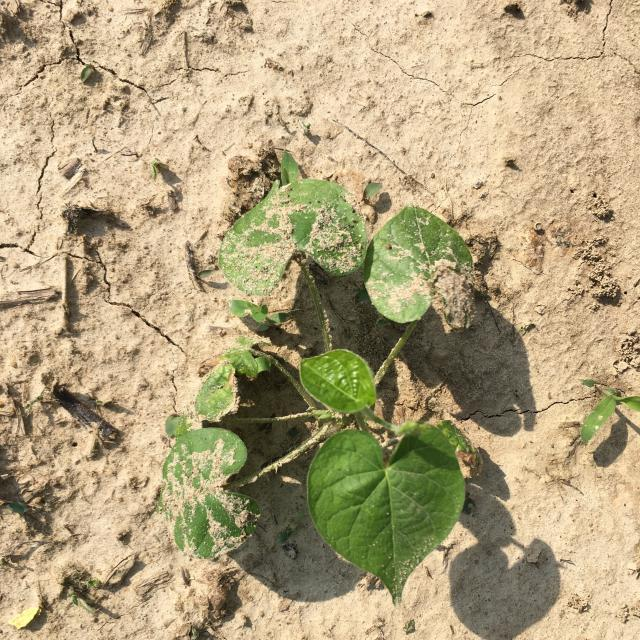MorningGlory: (155, 178, 485, 608)
